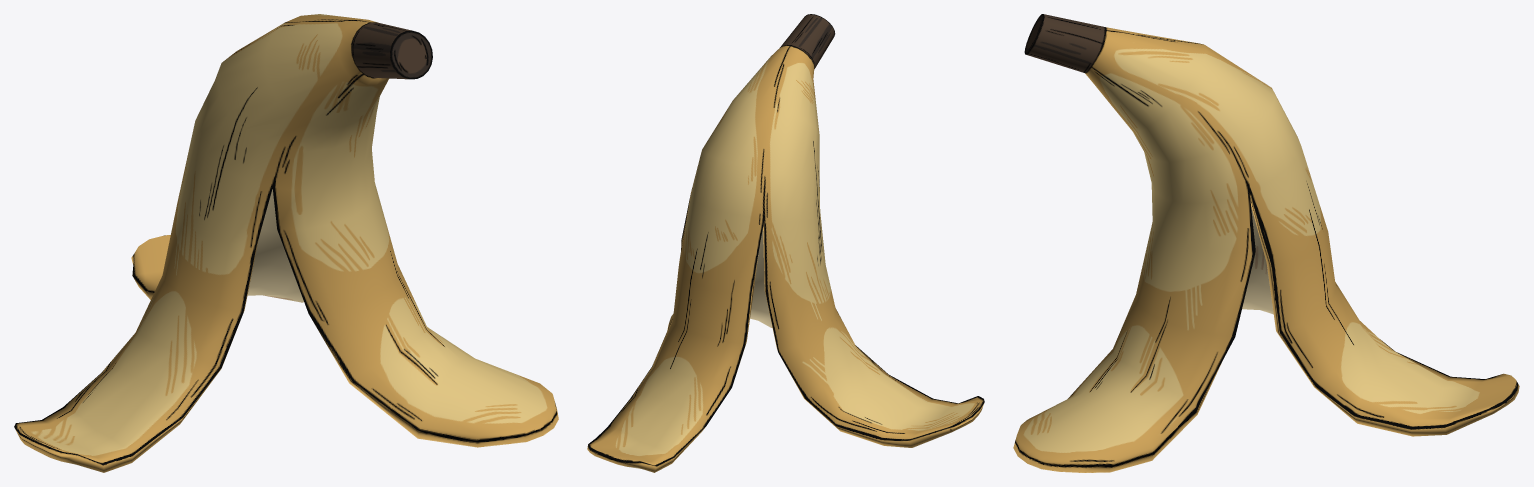
File: Banana full.fbx
3 renders of one model, left to right at view 1: azimuth 30°, elevation 25°; view 2: azimuth 150°, elevation 25°; view 3: azimuth 270°, elevation 25°, orthographic. The views are drawn at different scales.
Parts seen in each view (by area): view 1: Banaan; view 2: Banaan; view 3: Banaan.
Boxes of the visible parts, bbox=[...] form: Banaan: bbox=[14, 14, 558, 472]; Banaan: bbox=[587, 14, 984, 472]; Banaan: bbox=[1013, 14, 1519, 472].
Size of the model in its own units: 18.48 by 16.47 by 19.36.
